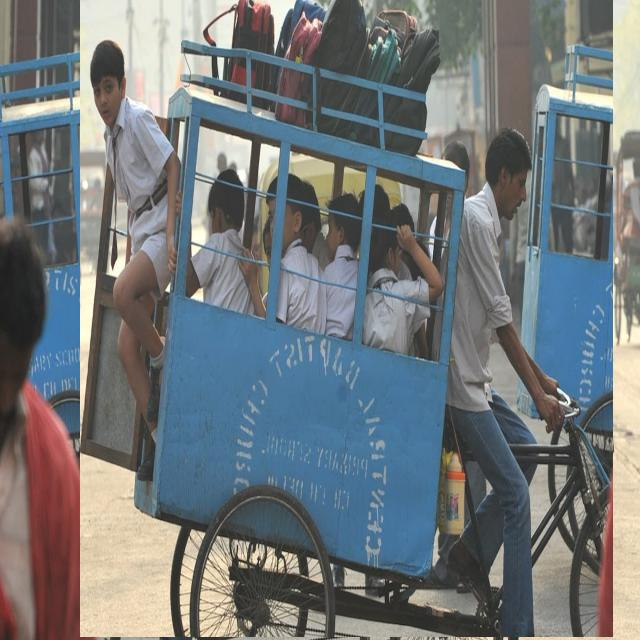bicycle: (81, 0, 613, 637)
